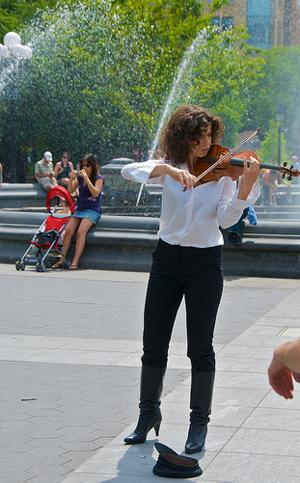person: (122, 108, 261, 462)
